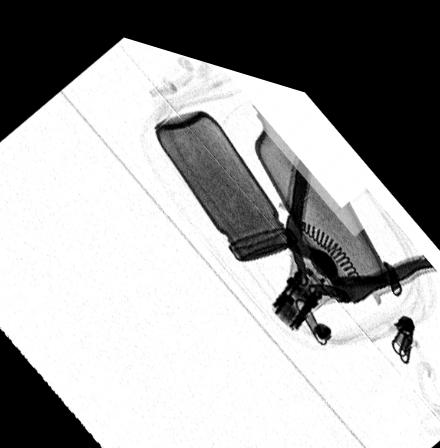Pliers: (269, 113, 435, 317)
